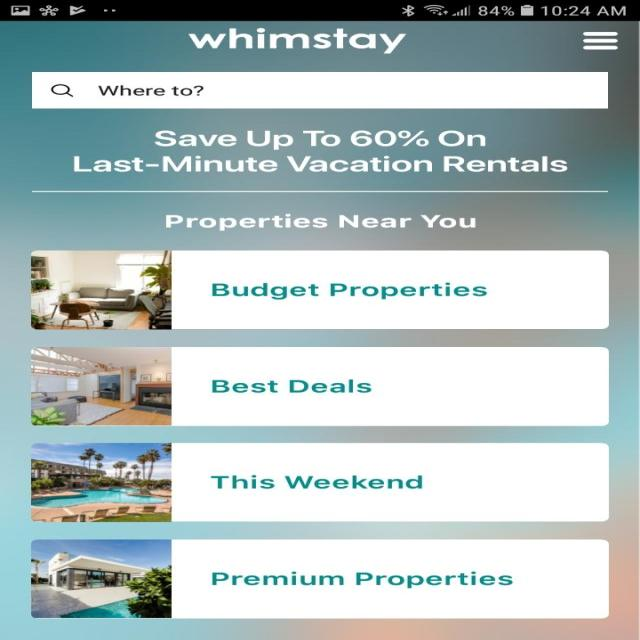EditText: (32, 72, 607, 109)
Icon: (581, 32, 617, 50), (51, 84, 74, 97)
Image: (30, 442, 172, 522), (31, 346, 172, 426), (30, 539, 172, 618), (31, 250, 172, 329)
Text: (73, 129, 567, 172), (188, 28, 406, 54), (166, 213, 477, 231), (211, 571, 513, 589), (212, 282, 487, 300), (210, 474, 422, 488), (212, 379, 372, 393), (98, 85, 204, 96)
